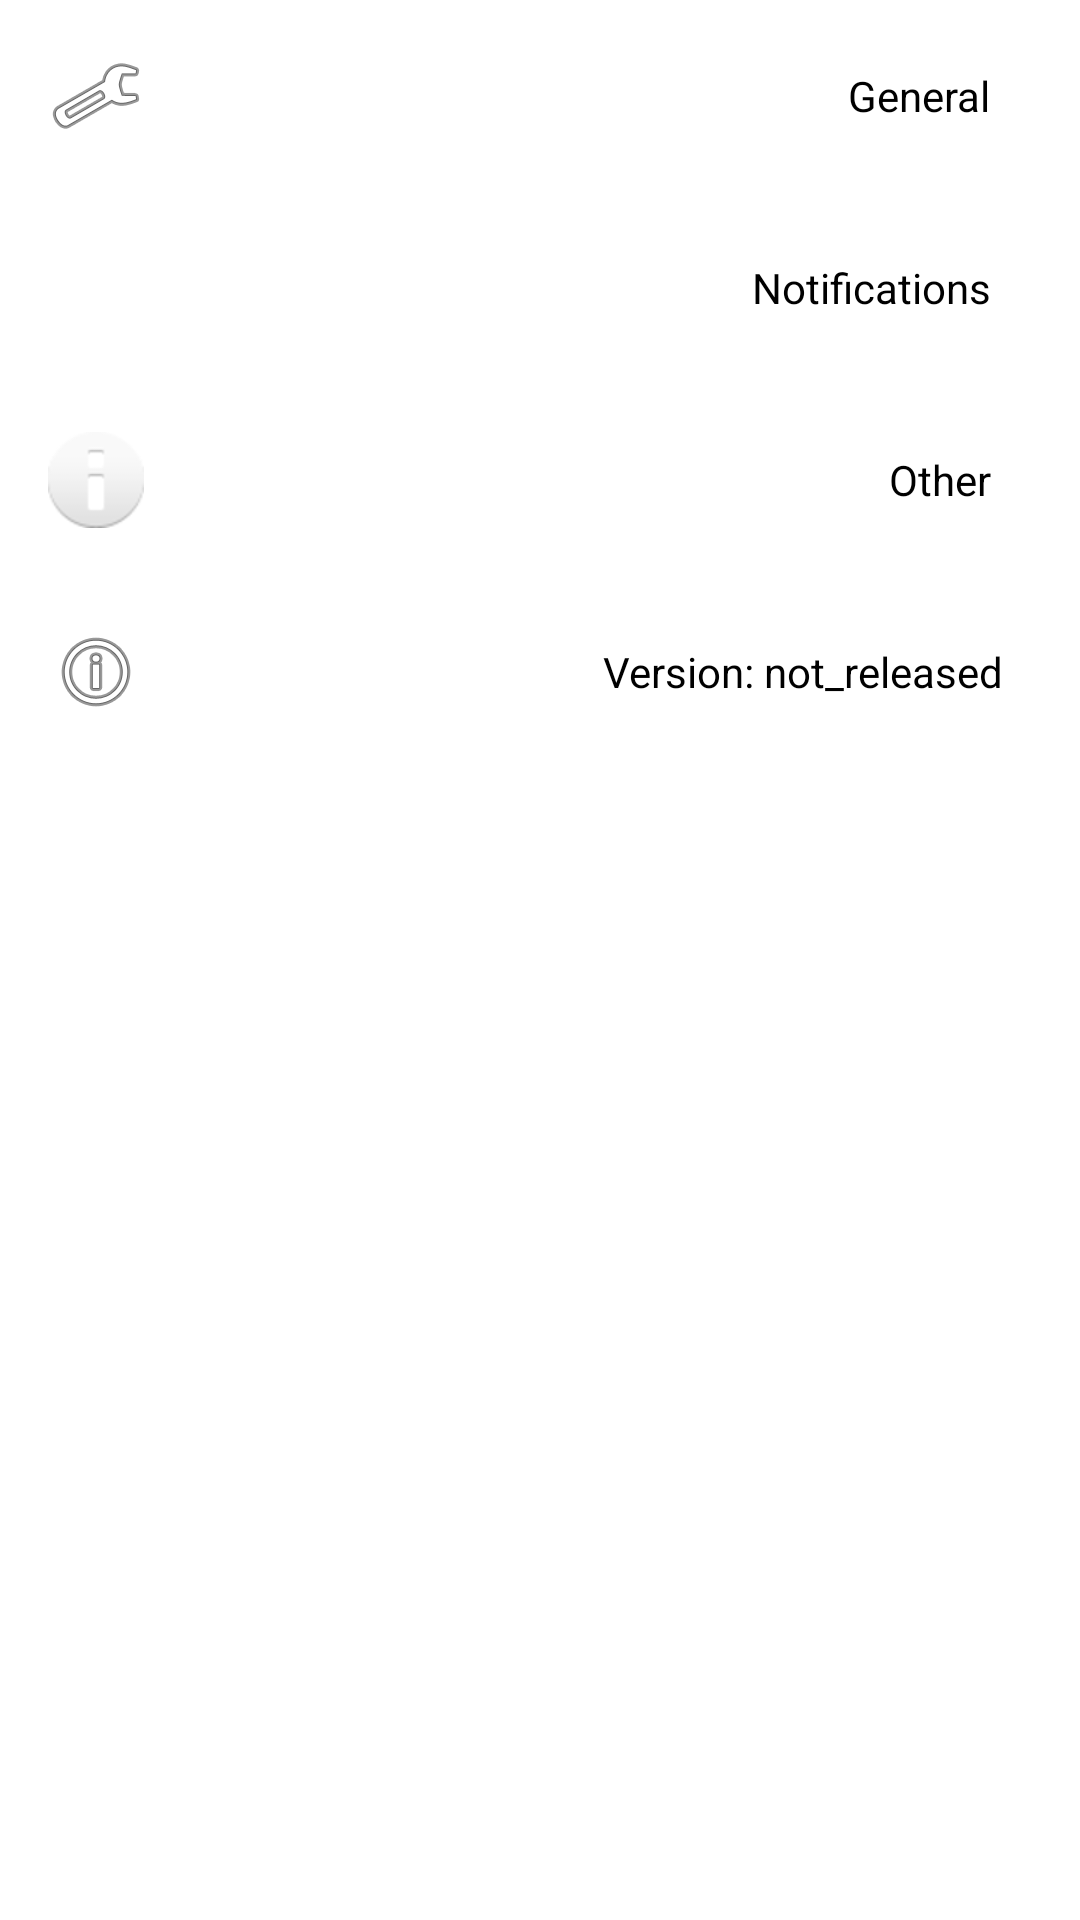

Where to tap for icons on this 1080x1920 app screen, as (x,y):
info: (96,489)
info details: (96,672)
manage: (96,96)
